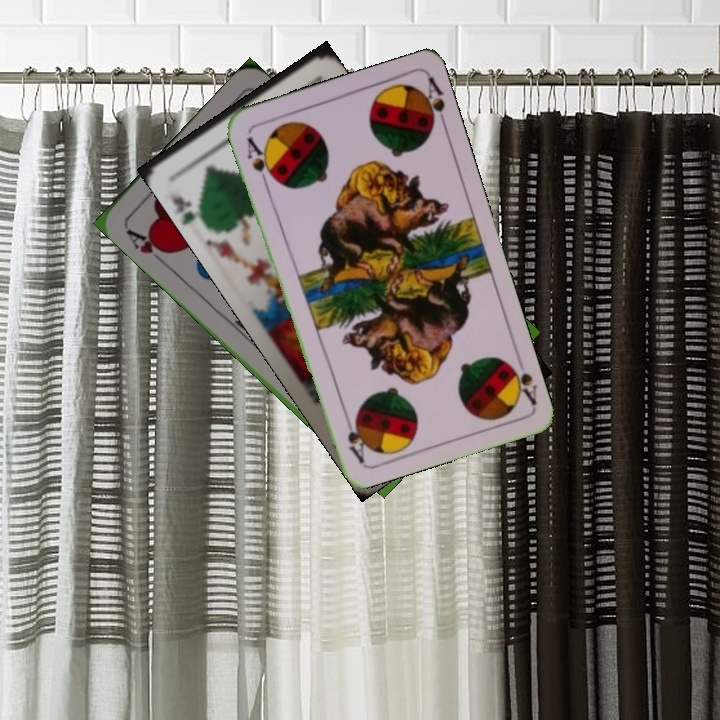GK: (167, 190, 207, 228)
HA: (121, 224, 173, 269)
SA: (501, 356, 540, 408), (243, 133, 278, 188)
